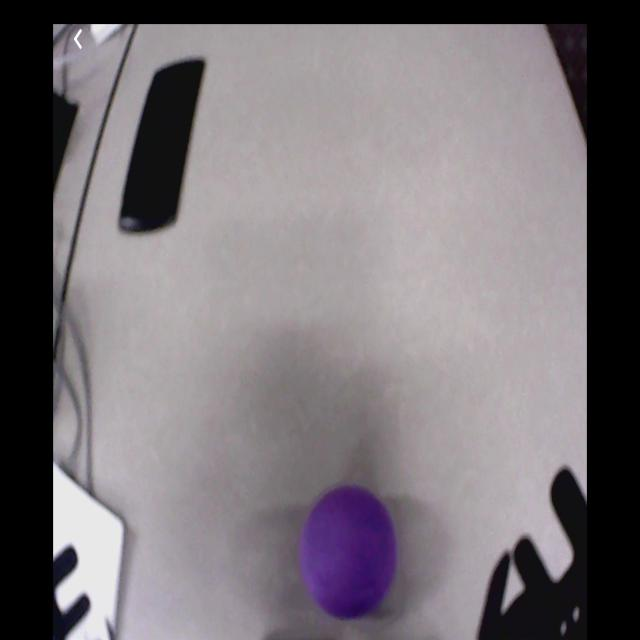ball: (304, 488, 398, 618)
